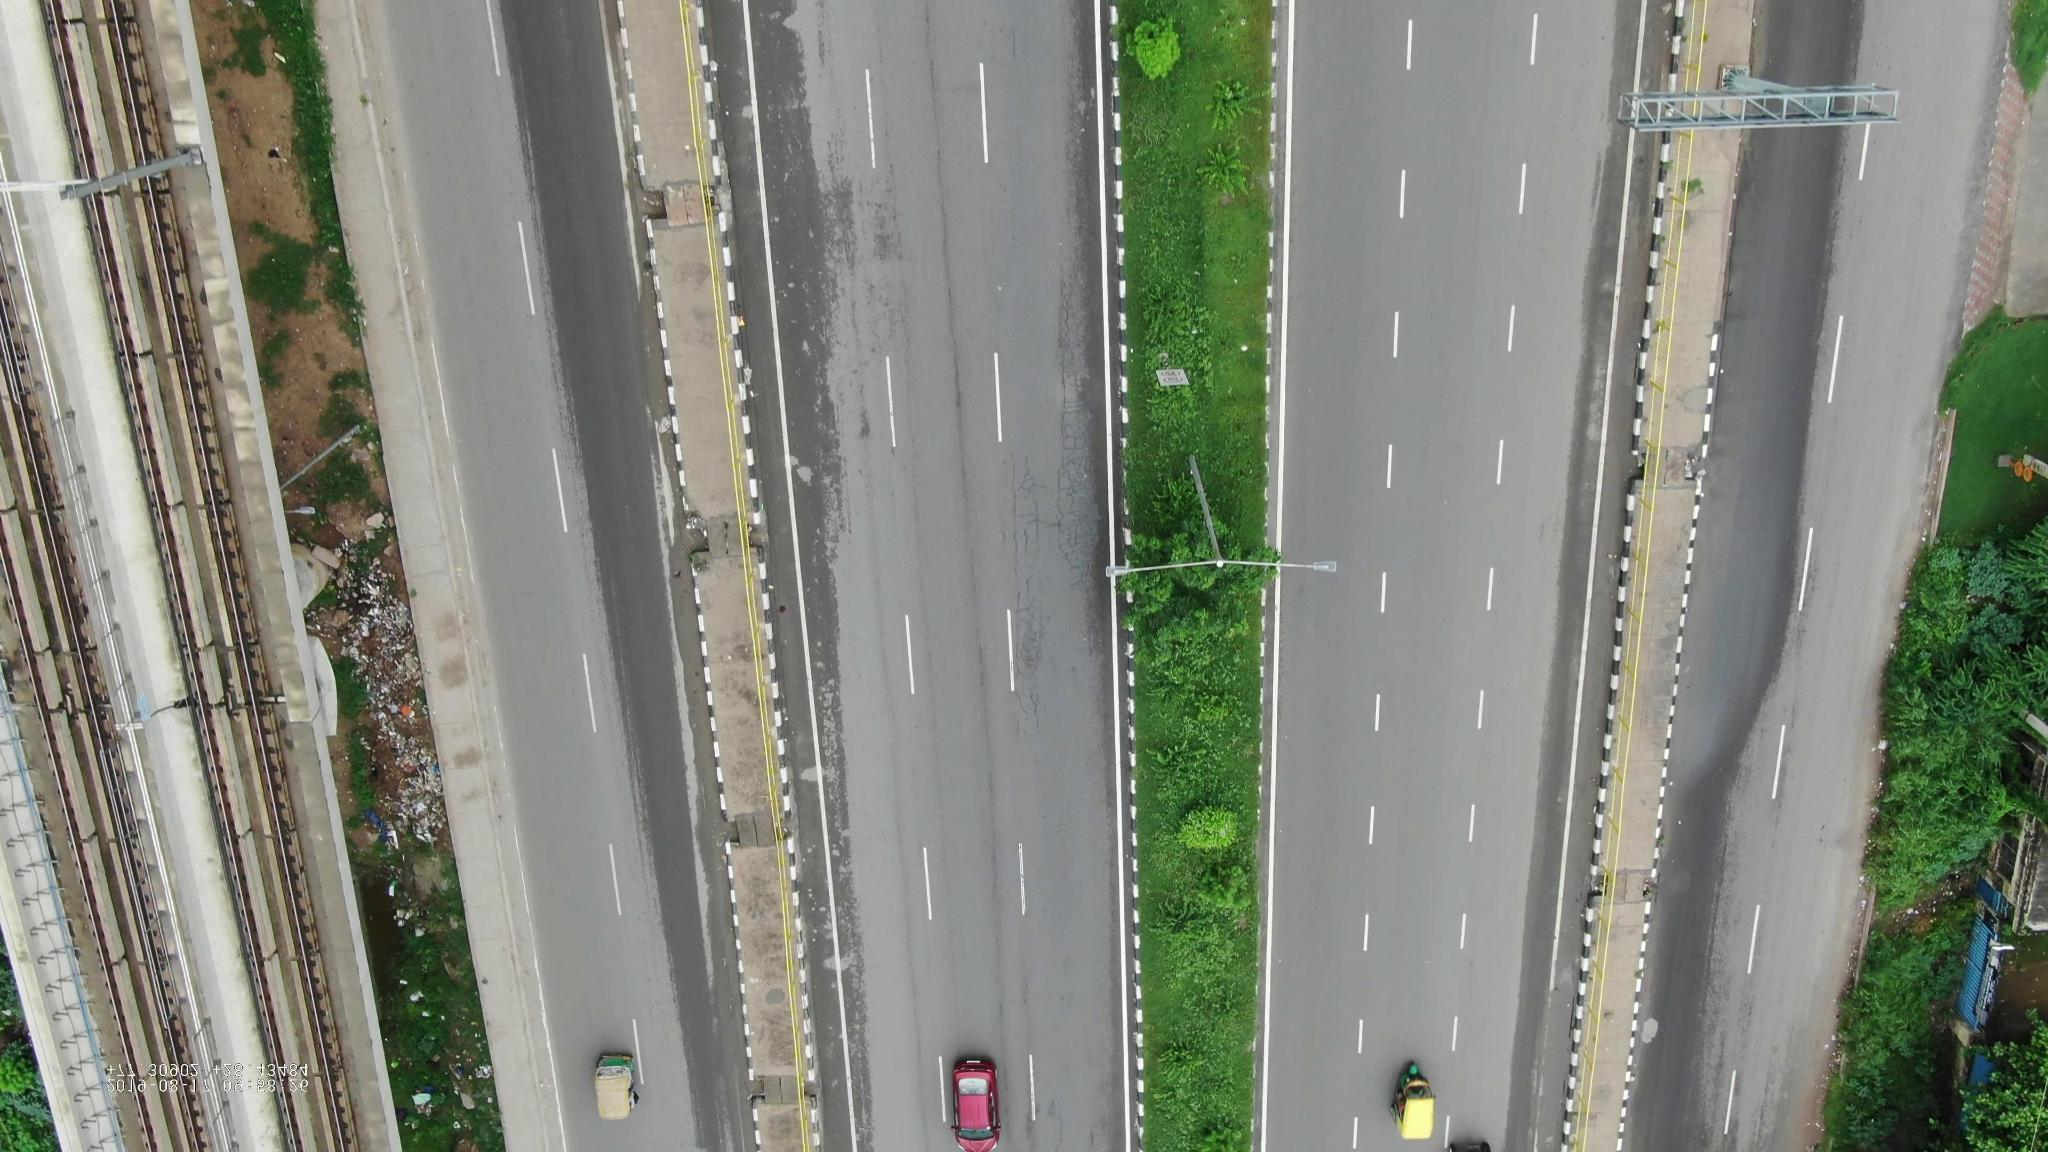Cracks: (1001, 470, 1106, 660), (1032, 284, 1106, 433)
Road_side_garbage: (328, 542, 452, 858)
